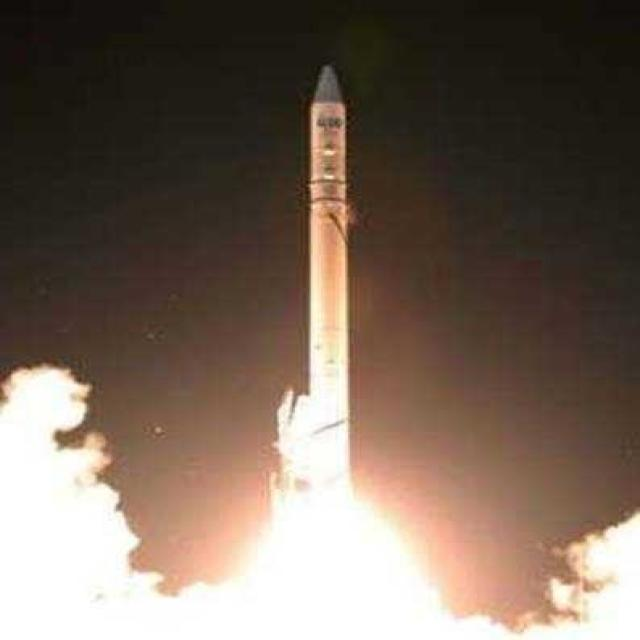missile: (301, 59, 358, 507)
